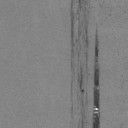slag inclusion: (69, 0, 91, 119), (92, 23, 101, 128), (77, 112, 85, 126)
